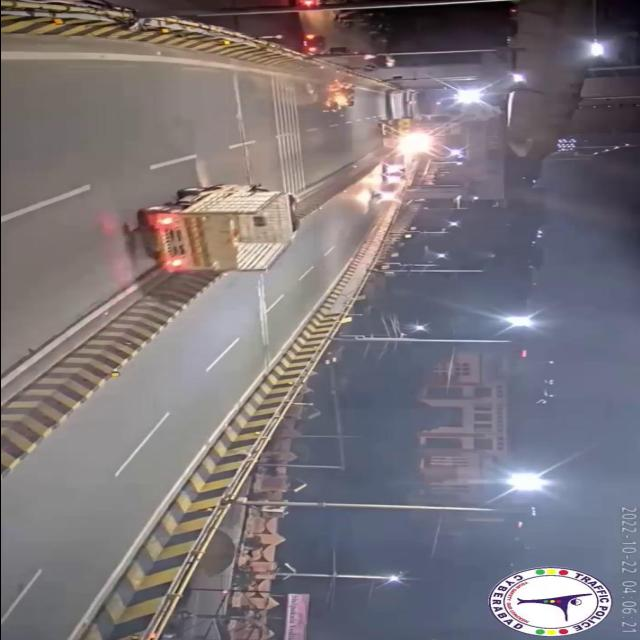accident: (315, 73, 365, 119)
